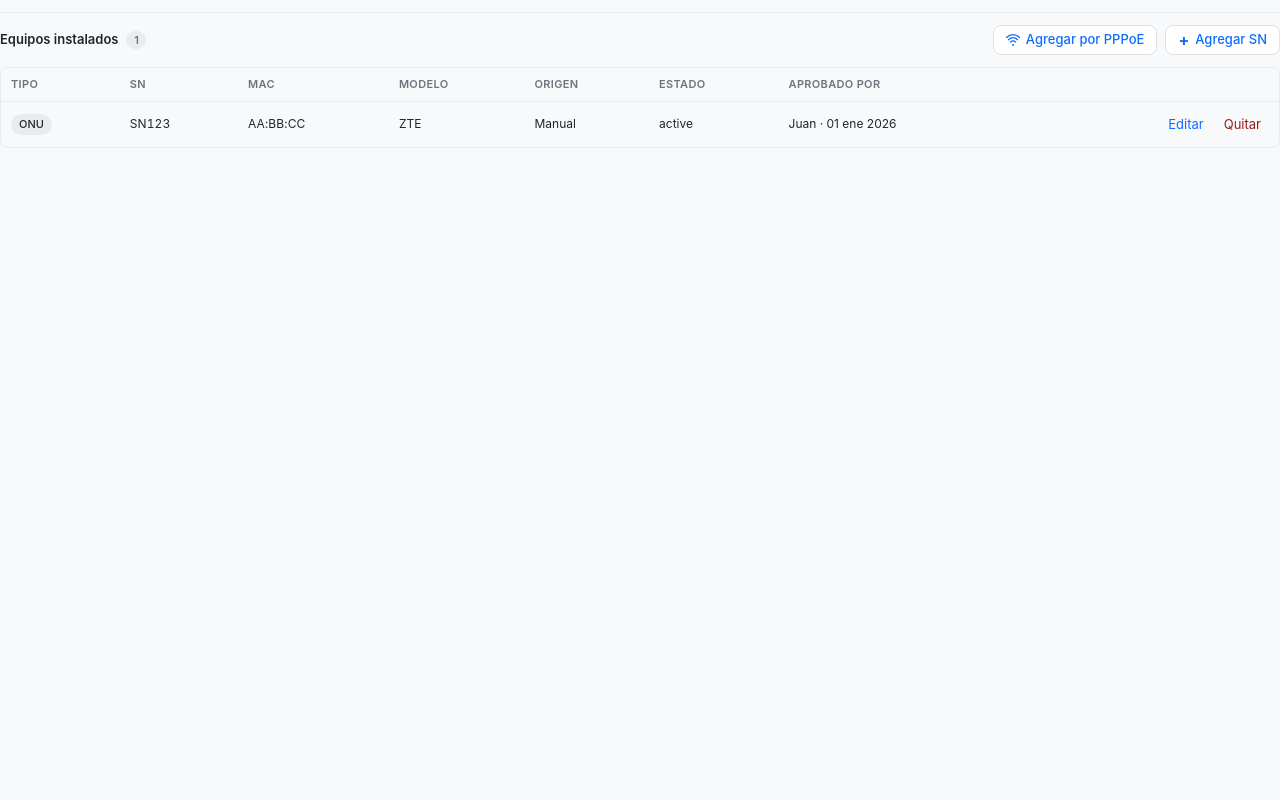
Scenario: ServiceInventorySection › blocks submit and warns when the MAC format is invalid
Click the button "+ Agregar SN".
click(1223, 40)  # box 1165,25 -> 1279,55
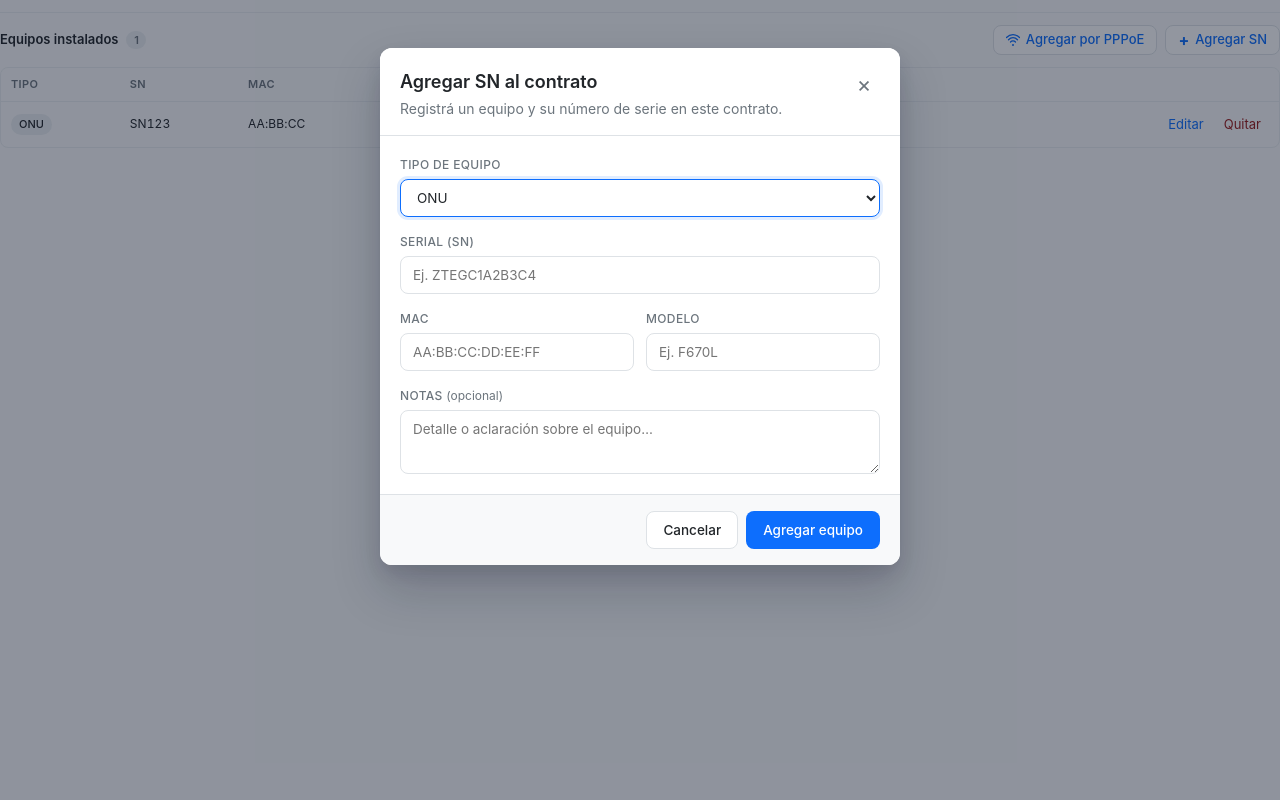
Type "not-a-mac" into the field labelled "MAC".
click(517, 352); type("not-a-mac")  # box 400,333 -> 634,371
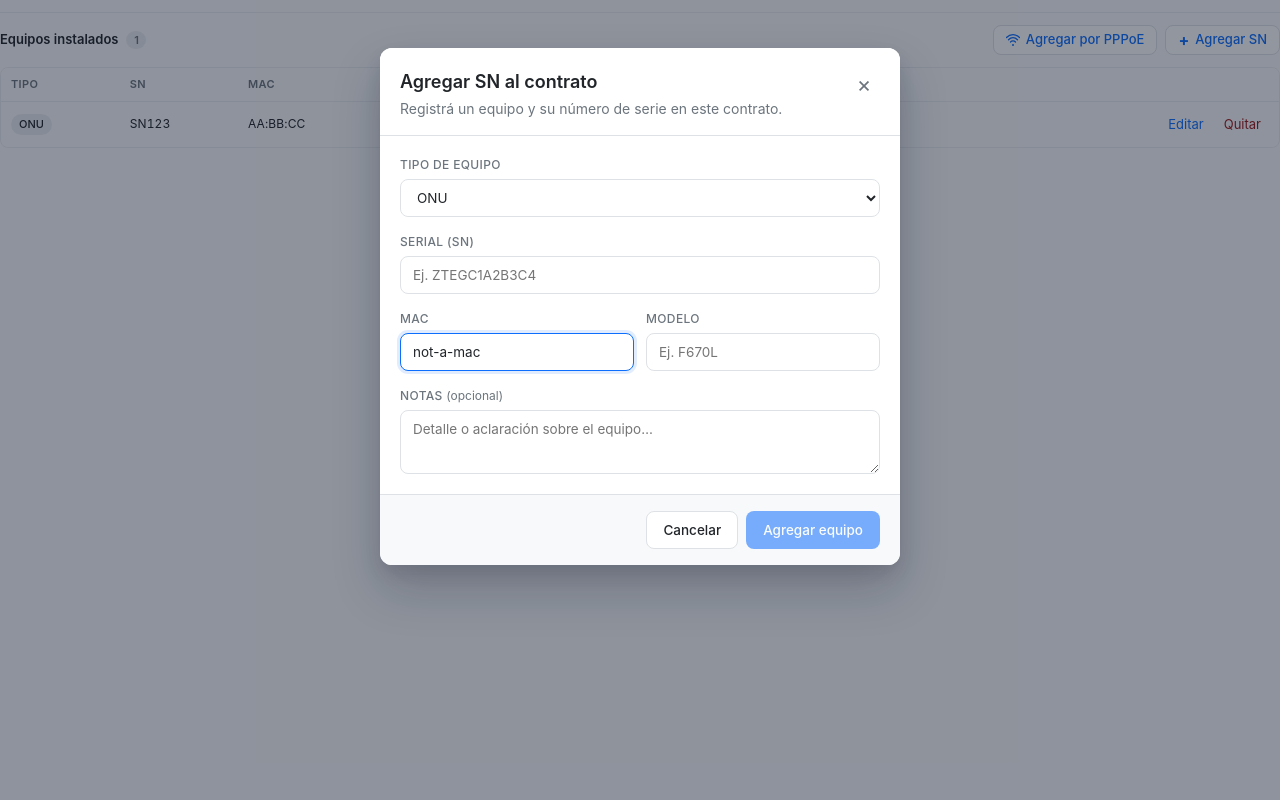
Click the button "Agregar equipo".
click(813, 530)  # box 746,511 -> 880,549
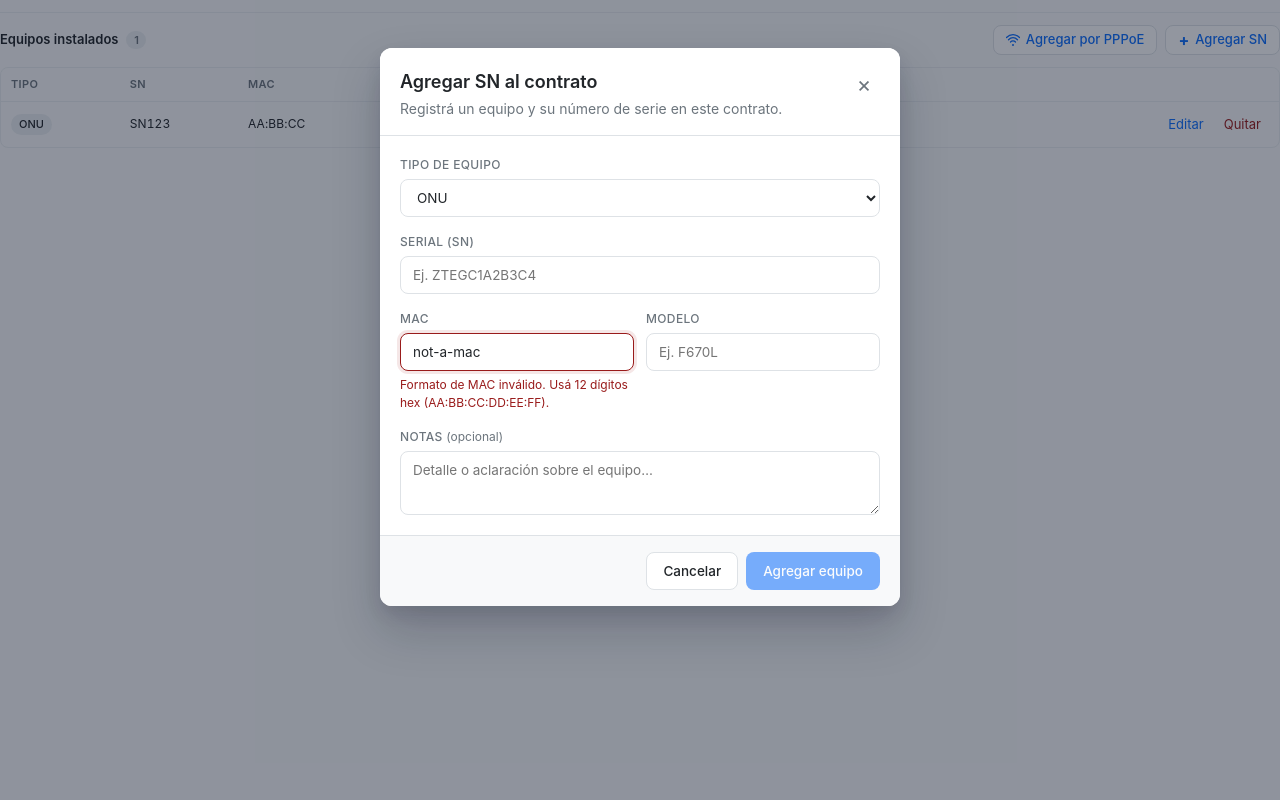
Expected: the text "Formato de MAC inválido. Usá 12 dígitos hex (AA:BB:CC:DD:EE:FF)." is shown, 400,376 -> 634,412
